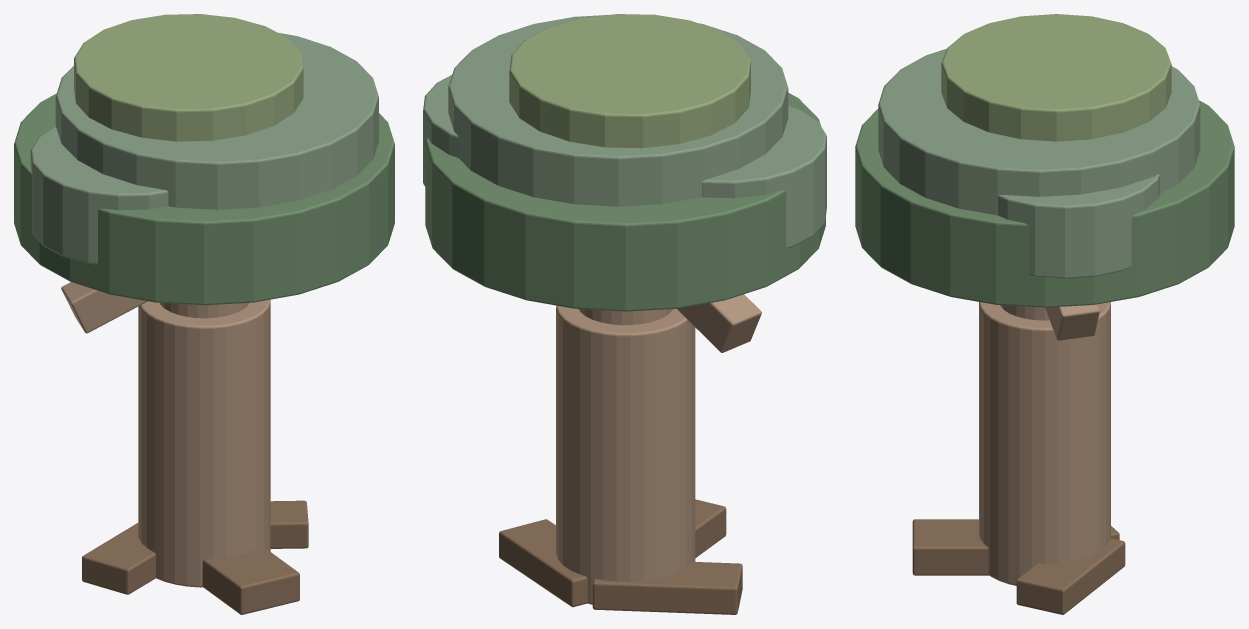
Rendered from woodland-great-tree-01.glb.
3 renders of one model, left to right at view 1: azimuth 30°, elevation 25°; view 2: azimuth 150°, elevation 25°; view 3: azimuth 270°, elevation 25°, orthographic. The views are drawn at different scales.
Visible parts, largest first — view 1: woodland-great-tree-01; view 2: woodland-great-tree-01; view 3: woodland-great-tree-01.
Part boxes in pixels (left/top/right/bottom): woodland-great-tree-01: left=14, top=14, right=394, bottom=614; woodland-great-tree-01: left=423, top=14, right=826, bottom=614; woodland-great-tree-01: left=855, top=14, right=1234, bottom=614.
Size of the model in its own units: 0.68 by 0.95 by 0.66.
